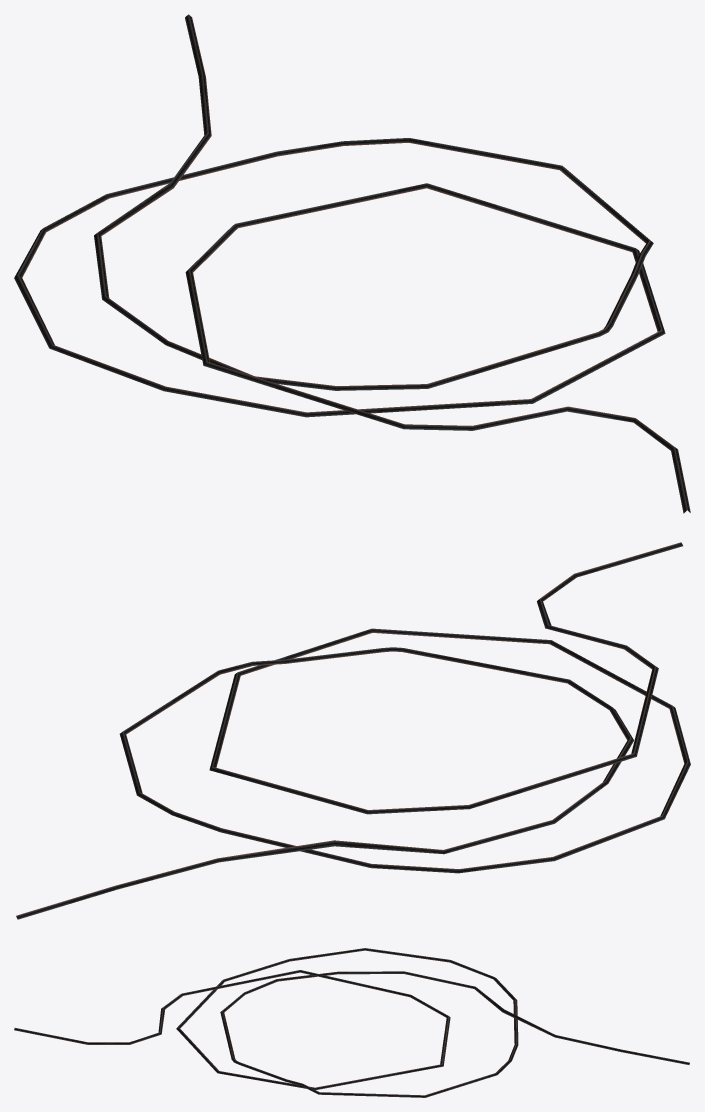
Rendered from Prop_Wj002f.glb.
3 views of the same model, one above another, from view 1: azimuth 30°, elevation 25°; view 2: azimuth 150°, elevation 25°; view 3: azimuth 270°, elevation 25° (orthographic). The views are drawn at different scales.
Visible parts, largest first — view 1: xiutz_wj002f; view 2: xiutz_wj002f; view 3: xiutz_wj002f.
Boxes of the visible parts, x1,y1,x2,y2 form: xiutz_wj002f: (14, 14, 690, 513); xiutz_wj002f: (16, 542, 690, 919); xiutz_wj002f: (14, 948, 689, 1097).
Bounding box in the file's own units: 36.78 × 0.5924 × 70.67.
1 material, 1 textured.
